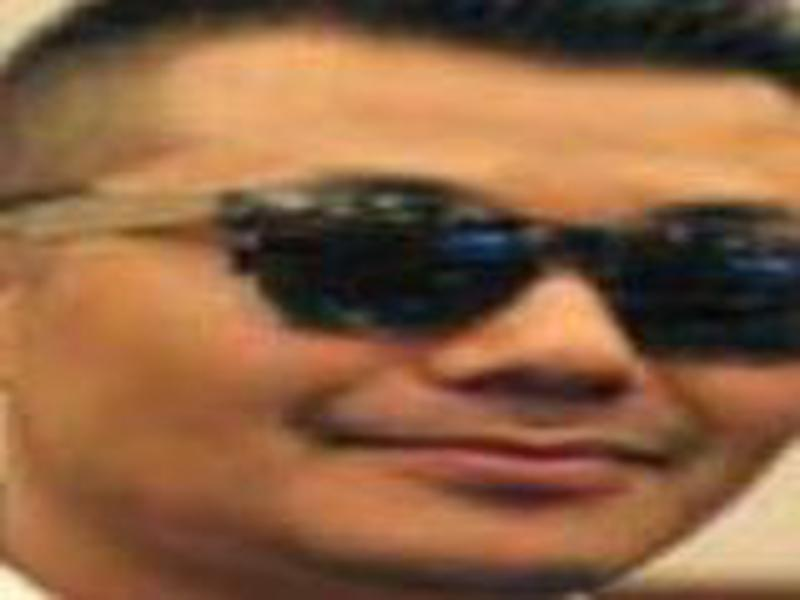without_mask: (25, 18, 800, 600)
